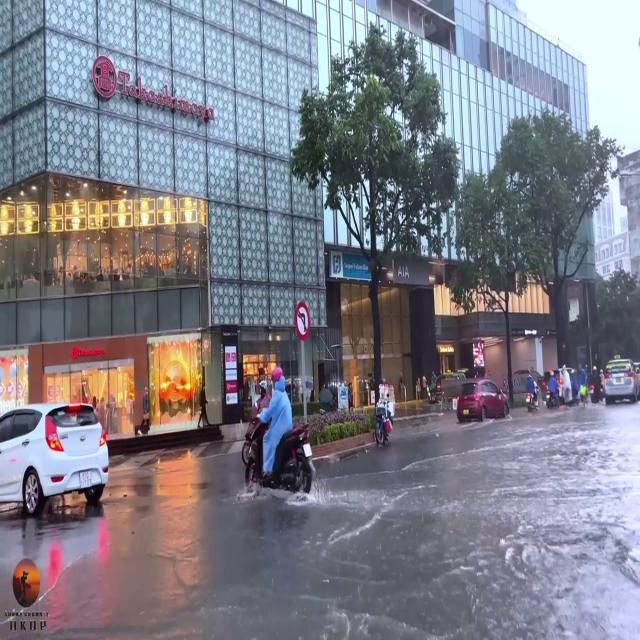bien_trang: (80, 469, 92, 487)
